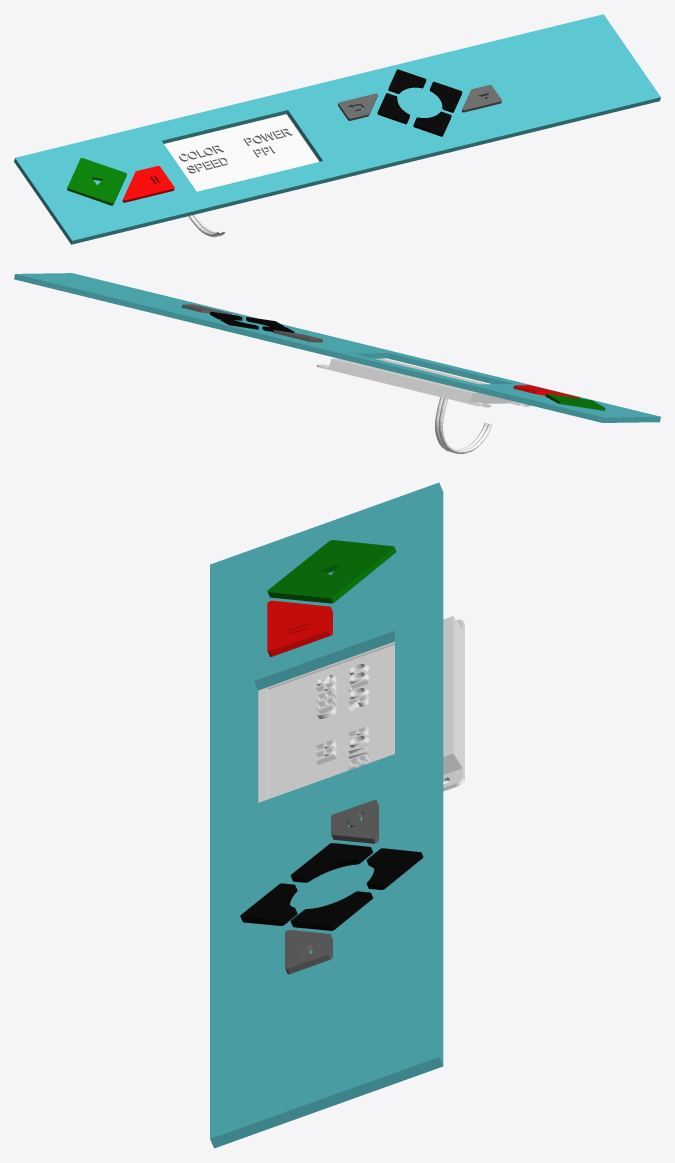
Rendered from controlpad.obj.
The picture shows the model from 3 angles, top to bottom: view 1: azimuth 30°, elevation 25°; view 2: azimuth 150°, elevation 25°; view 3: azimuth 270°, elevation 25°; orthographic projection. The views are drawn at different scales.
Parts seen in each view (by area): view 1: object_1, object_10, object_5, object_6, object_4, object_3, object_9, object_2, object_7, object_8; view 2: object_1, object_10, object_5, object_6; view 3: object_1, object_10, object_5, object_6, object_4, object_3, object_2, object_7, object_9, object_8.
Part boxes in pixels (<box>): object_1: <box>14,14,660,244</box>; object_10: <box>164,114,319,237</box>; object_5: <box>67,158,126,205</box>; object_6: <box>122,165,174,202</box>; object_4: <box>462,85,501,112</box>; object_3: <box>338,93,377,120</box>; object_9: <box>413,111,451,136</box>; object_2: <box>377,93,409,124</box>; object_7: <box>429,81,462,112</box>; object_8: <box>388,69,426,93</box>; object_1: <box>14,273,660,422</box>; object_10: <box>317,358,530,453</box>; object_5: <box>545,393,605,410</box>; object_6: <box>513,385,579,398</box>; object_1: <box>210,482,443,1148</box>; object_10: <box>258,616,464,802</box>; object_5: <box>267,540,396,603</box>; object_6: <box>267,600,332,656</box>; object_4: <box>285,930,332,974</box>; object_3: <box>331,800,378,843</box>; object_2: <box>290,843,373,882</box>; object_7: <box>290,891,372,930</box>; object_9: <box>240,883,297,925</box>; object_8: <box>366,848,423,889</box>.
Size of the model in its own units: 15.2 by 2.28 by 2.85.
